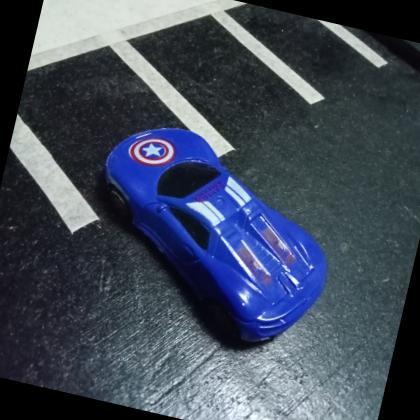Car: (104, 128, 327, 346)
